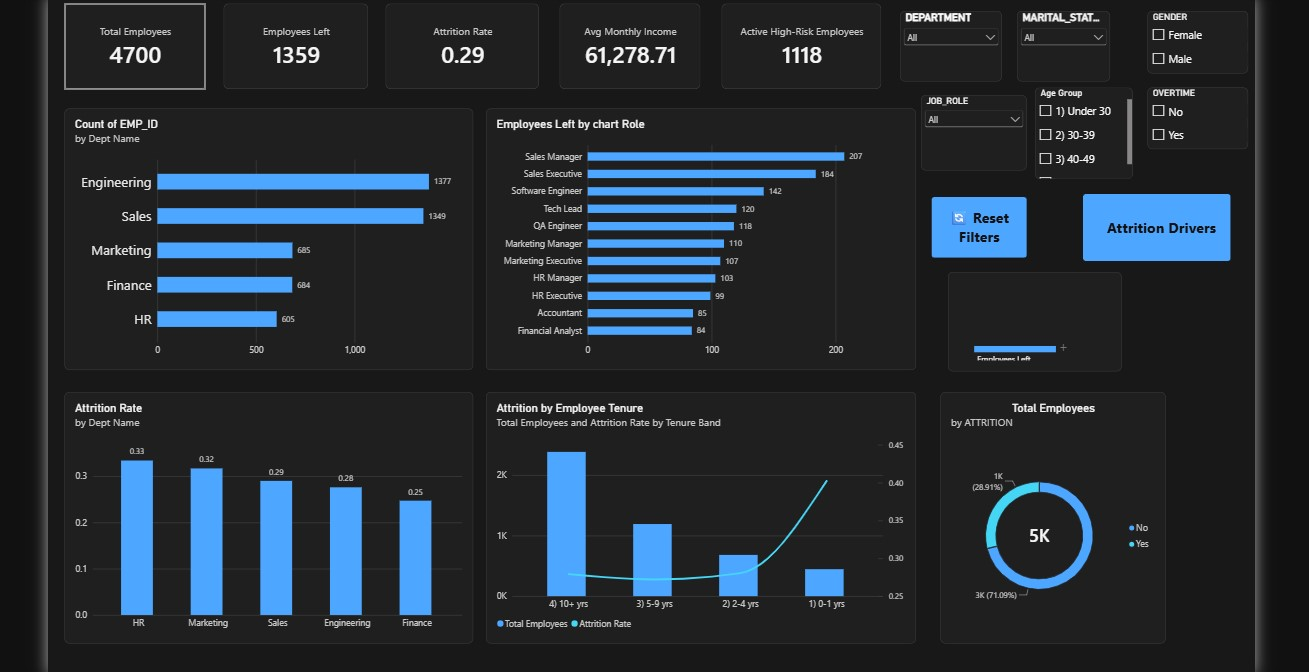

Layout of this report page (visuals, bound fields, positions):
{"tool":"powerbi","page":{"name":"Executive Overview","canvas":[1920,1080],"ordinal":0},"visuals":[{"type":"cardVisual","fields":{"Data":["Table.Total Employees"]},"box":[26,12,224,136],"z":0},{"type":"cardVisual","fields":{"Data":["Table.Employees Left"]},"box":[278,12,230,136],"z":1000},{"type":"cardVisual","fields":{"Data":["Table.Attrition Rate"]},"box":[536,12,244,136],"z":2000},{"type":"barChart","fields":{"Category":["HR_ATTRITION_FINAL.Dept Name"],"Y":["CountNonNull(HR_ATTRITION_FINAL.EMP_ID)"]},"box":[26,180,650,416],"z":3000},{"type":"cardVisual","fields":{"Data":["Table.Avg Monthly Income"]},"box":[814,12,224,136],"z":4000},{"type":"cardVisual","fields":{"Data":["Table.Active High-Risk Employees"]},"box":[1072,12,254,136],"z":5000},{"type":"slicer","fields":{"Values":["HR_ATTRITION_FINAL.DEPARTMENT"]},"box":[1356,24,162,112],"z":6000},{"type":"slicer","fields":{"Values":["HR_ATTRITION_FINAL.JOB_ROLE"]},"box":[1388,158,168,120],"z":7000},{"type":"slicer","fields":{"Values":["HR_ATTRITION_FINAL.OVERTIME"]},"box":[1748,146,160,98],"z":8000},{"type":"slicer","fields":{"Values":["HR_ATTRITION_FINAL.Age Group"]},"box":[1569.9,145.5,155.1,145.5],"z":9000},{"type":"slicer","fields":{"Values":["HR_ATTRITION_FINAL.MARITAL_STATUS"]},"box":[1542,24,148,112],"z":10000},{"type":"slicer","fields":{"Values":["HR_ATTRITION_FINAL.GENDER"]},"box":[1748,24,159.9,99.2],"z":11000},{"type":"clusteredColumnChart","fields":{"Category":["HR_ATTRITION_FINAL.Dept Name"],"Y":["Table.Attrition Rate"]},"box":[26,630,650,400],"z":12000},{"type":"donutChart","fields":{"Category":["HR_ATTRITION_FINAL.ATTRITION"],"Y":["Table.Total Employees"]},"box":[1420,630,358,400],"z":13000},{"type":"clusteredBarChart","title":"Employees Left by chart Role","fields":{"Category":["HR_ATTRITION_FINAL.JOB_ROLE"],"Y":["Table.Employees Left"]},"box":[696,180,684,416],"z":14000},{"type":"lineClusteredColumnComboChart","title":"Attrition by Employee Tenure","fields":{"Category":["HR_ATTRITION_FINAL.Tenure Band"],"Y":["Table.Total Employees"],"Y2":["Table.Attrition Rate"]},"box":[696,630,684,400],"z":15000},{"type":"decompositionTreeVisual","fields":{"Analyze":["Table.Employees Left"],"ExplainBy":["HR_ATTRITION_FINAL.DEPARTMENT","HR_ATTRITION_FINAL.JOB_ROLE","HR_ATTRITION_FINAL.OVERTIME","HR_ATTRITION_FINAL.Tenure Band","HR_ATTRITION_FINAL.Income Band"]},"box":[1432,438,276,158],"z":16000},{"type":"actionButton","box":[1405,320,151.7,96.7],"z":17000},{"type":"actionButton","box":[1646.7,315,235,106.7],"z":18000}]}

Visuals, with their boxes on the page's 1920x1080 design canvas (x1, y1, x2, y2). These are canvas units, not pixel positions in the 1309x672 screenshot, which may show the page scaled, cropped or inside an application window:
cardVisual - Table.Total Employees: Rect(26, 12, 250, 148)
cardVisual - Table.Employees Left: Rect(278, 12, 508, 148)
cardVisual - Table.Attrition Rate: Rect(536, 12, 780, 148)
barChart - HR_ATTRITION_FINAL.Dept Name x CountNonNull(HR_ATTRITION_FINAL.EMP_ID): Rect(26, 180, 676, 596)
cardVisual - Table.Avg Monthly Income: Rect(814, 12, 1038, 148)
cardVisual - Table.Active High-Risk Employees: Rect(1072, 12, 1326, 148)
slicer - HR_ATTRITION_FINAL.DEPARTMENT: Rect(1356, 24, 1518, 136)
slicer - HR_ATTRITION_FINAL.JOB_ROLE: Rect(1388, 158, 1556, 278)
slicer - HR_ATTRITION_FINAL.OVERTIME: Rect(1748, 146, 1908, 244)
slicer - HR_ATTRITION_FINAL.Age Group: Rect(1570, 146, 1725, 291)
slicer - HR_ATTRITION_FINAL.MARITAL_STATUS: Rect(1542, 24, 1690, 136)
slicer - HR_ATTRITION_FINAL.GENDER: Rect(1748, 24, 1908, 123)
clusteredColumnChart - HR_ATTRITION_FINAL.Dept Name x Table.Attrition Rate: Rect(26, 630, 676, 1030)
donutChart - HR_ATTRITION_FINAL.ATTRITION x Table.Total Employees: Rect(1420, 630, 1778, 1030)
"Employees Left by chart Role" clusteredBarChart: Rect(696, 180, 1380, 596)
"Attrition by Employee Tenure" lineClusteredColumnComboChart: Rect(696, 630, 1380, 1030)
decompositionTreeVisual - Table.Employees Left x HR_ATTRITION_FINAL.DEPARTMENT: Rect(1432, 438, 1708, 596)
actionButton: Rect(1405, 320, 1557, 417)
actionButton: Rect(1647, 315, 1882, 422)
